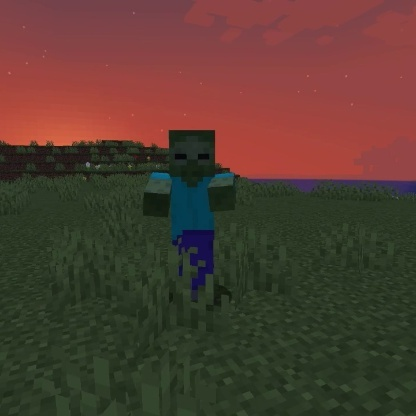zombie: (138, 127, 238, 307)
